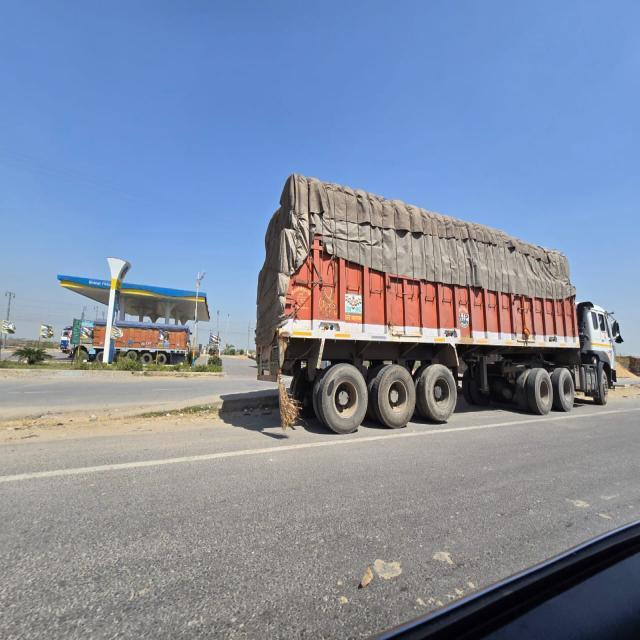covered: (248, 179, 595, 426), (79, 310, 192, 382)
